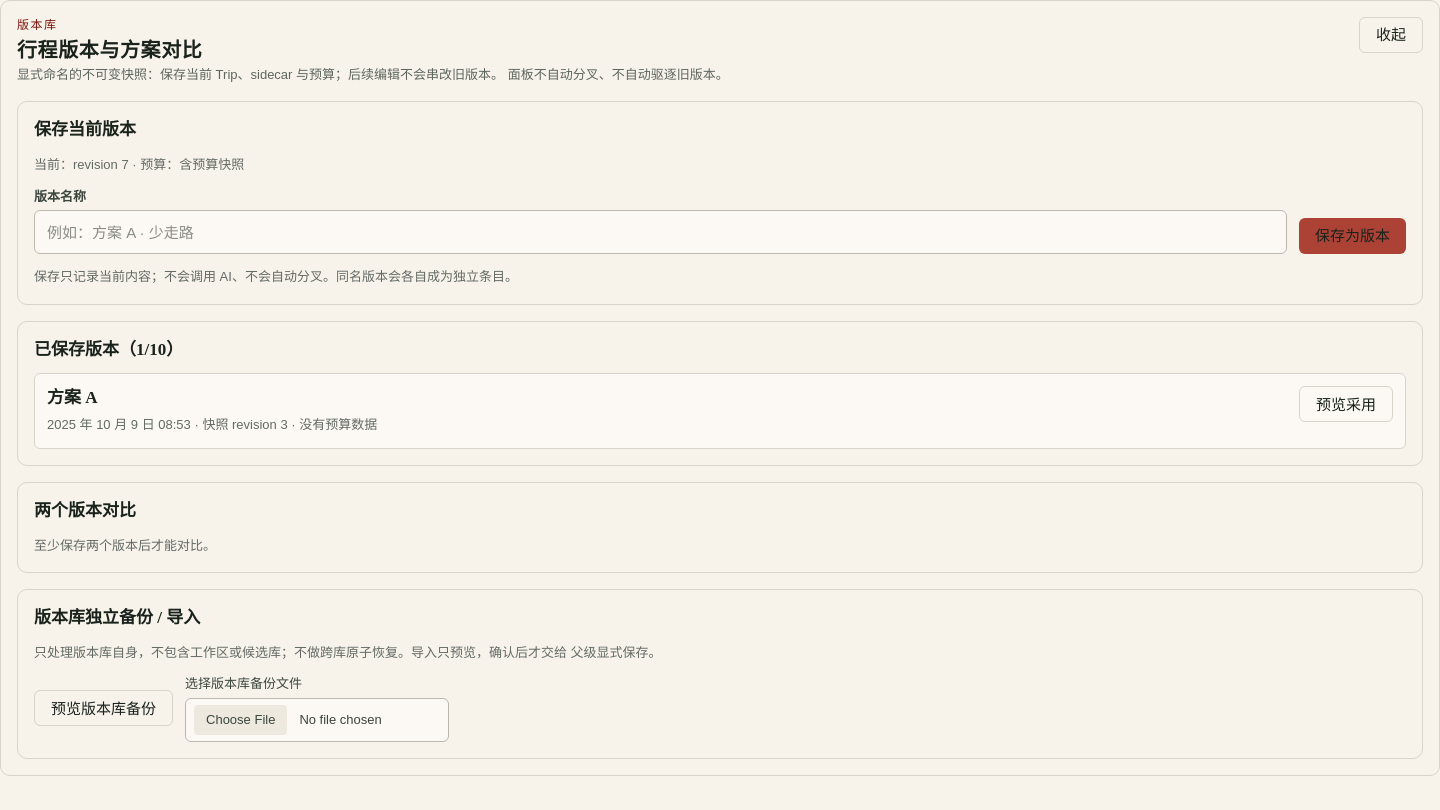
Test: VersionsPanel：采用预览、确认与撤销 › 先预览不 apply；缺预算明确显示；当前额外条目列入重新确认；确认后才回调
Click the button with aria-label "预览采用版本 方案 A": {"x": 1346, "y": 404} [1299,386,1393,422]
(page scrolled)
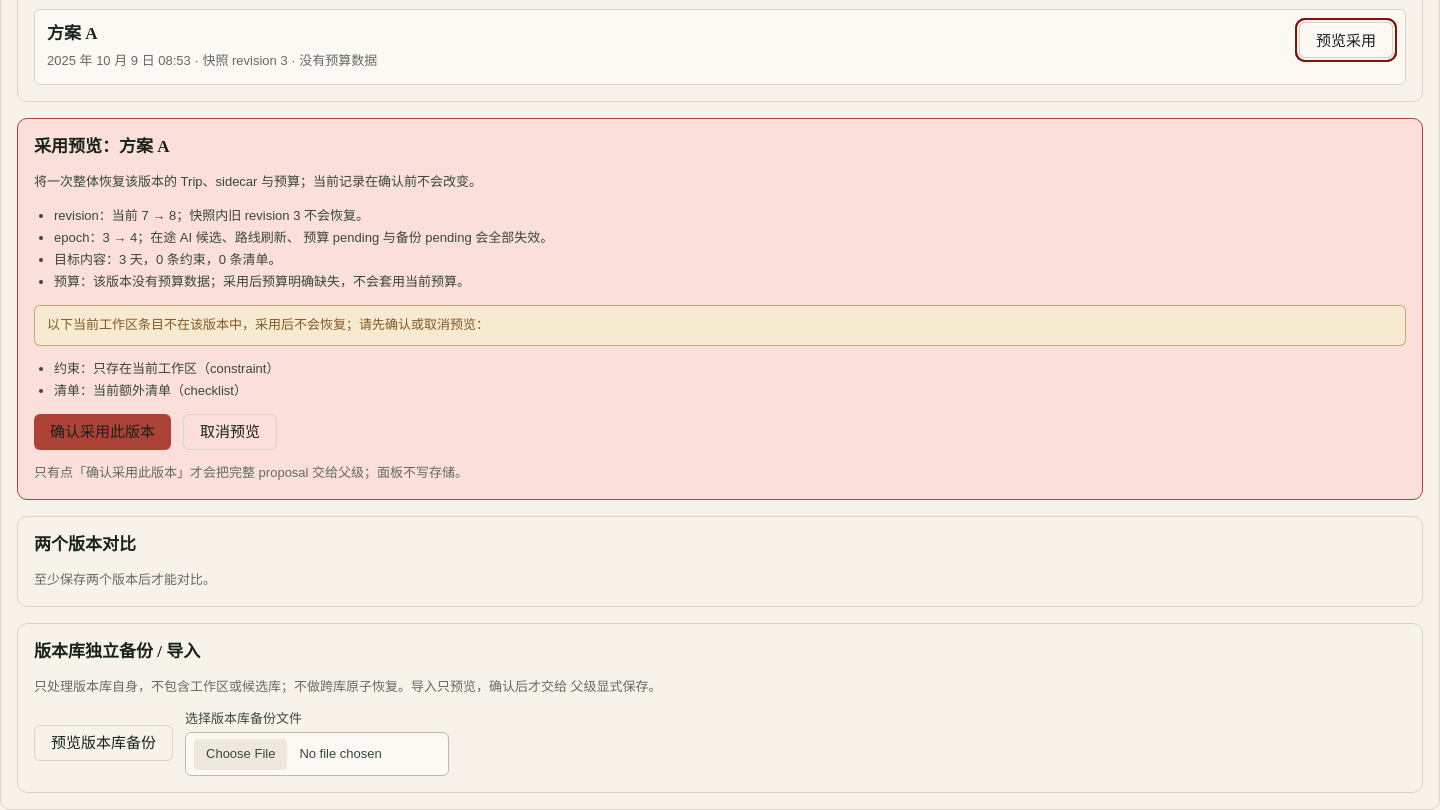
expect the heading "采用预览：方案 A" is shown: met, box [34,137,170,156]
expect the list item "预算：该版本没有预算数据；采用后预算明确缺失，不会套用当前预算。" is shown: met, box [54,274,470,289]
expect the list item "约束：只存在当前工作区（constraint）" is shown: met, box [54,360,279,376]
Click the button "取消预览": {"x": 230, "y": 432} [183,414,277,450]
(page scrolled)
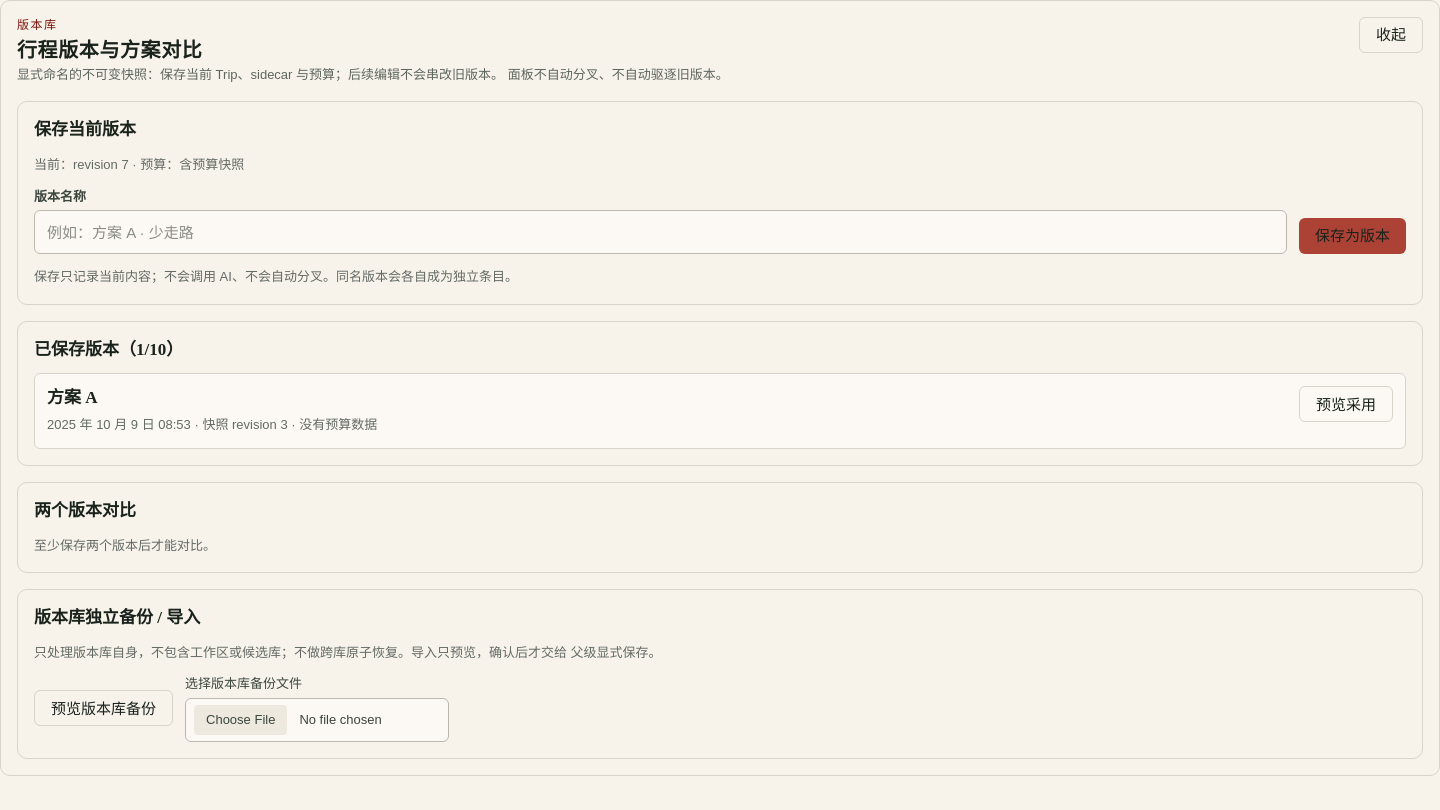
expect the heading "采用预览：方案 A" is gone: met
Click the button with aria-label "预览采用版本 方案 A": {"x": 1346, "y": 404} [1299,386,1393,422]
(page scrolled)
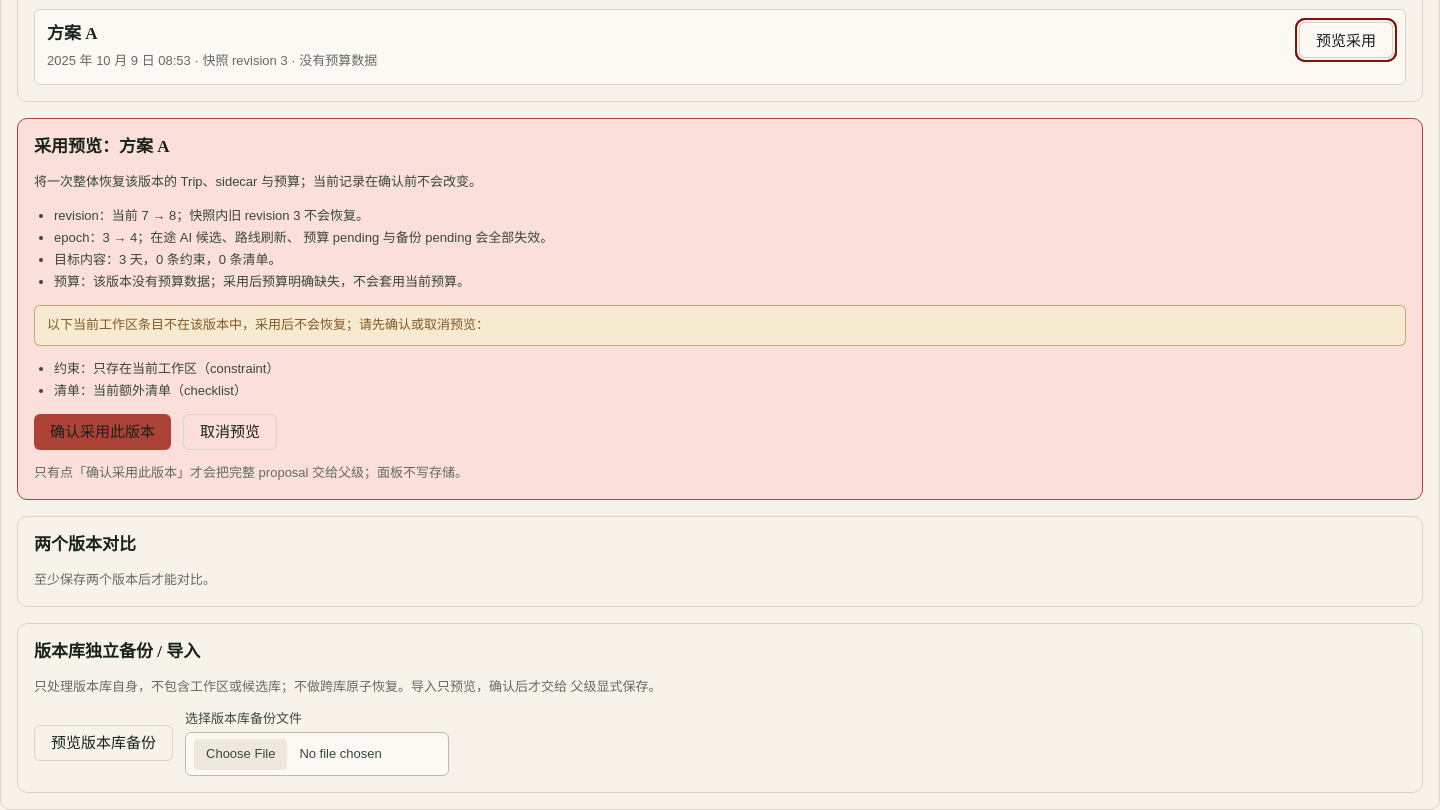
Click the button "确认采用此版本": {"x": 102, "y": 432} [34,414,171,450]
(page scrolled)
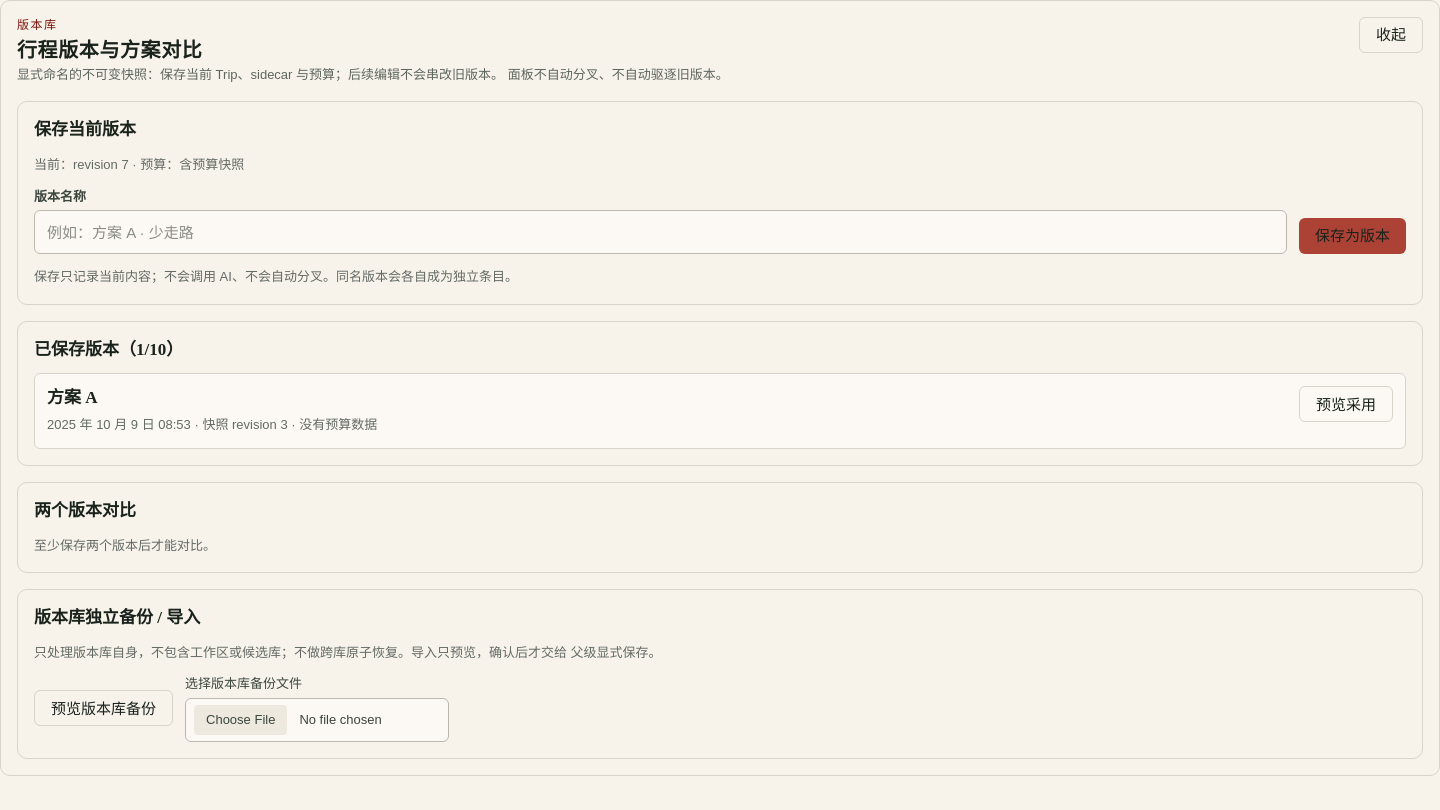
expect the heading "采用预览：方案 A" is gone: met
